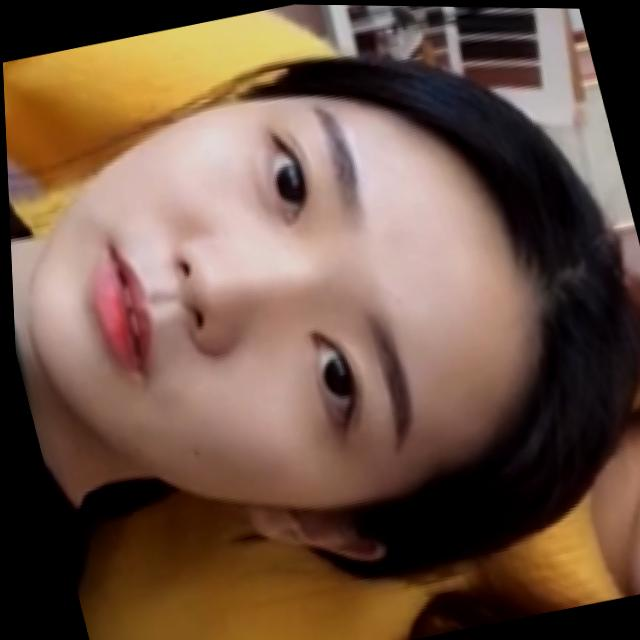face: (1, 38, 592, 578)
